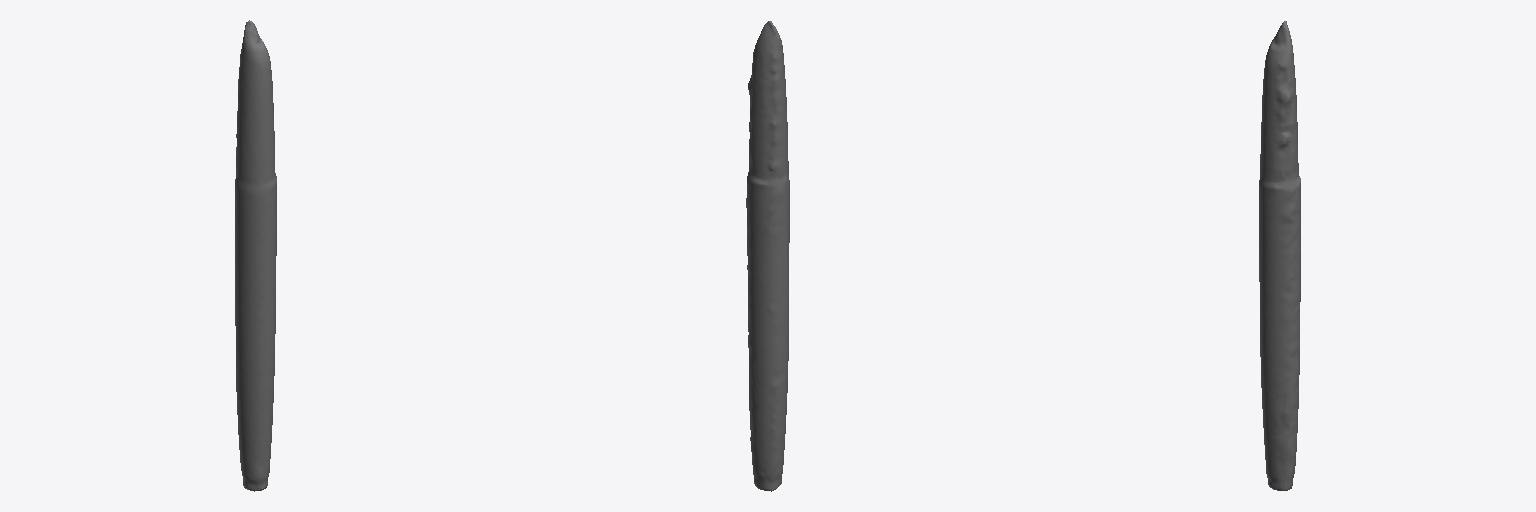
URDF robot description (object):
<?xml version="1.0"?>
<robot name="object">
  <link name="object">
    <visual>
      <origin xyz="0 0 0"/>
      <geometry>
        <mesh
          filename="../../mesh/oakink_virtual/marker_pen35.stl" />
      </geometry>
      <material name="mat">
        <color rgba="0.5 0.5 0.5 1"/>
      </material>
    </visual>

    <collision>
      <origin xyz="0 0 0"/>
      <geometry>
        <mesh
          filename="../../mesh/oakink_virtual/marker_pen35.stl" />
      </geometry>
    </collision>
  </link>
</robot>

--- Facts derived from the render (not from the file) ---
3 views of the same robot in one strip: view 1: azimuth 30°, elevation 25°; view 2: azimuth 150°, elevation 25°; view 3: azimuth 270°, elevation 25° (orthographic).
Robot: object — 1 links, 0 joints (none); root link object; default pose: every joint at zero.
Visible links, largest first — view 1: object; view 2: object; view 3: object.
Link boxes in pixels (bbox=[...]): object: bbox=[235, 20, 276, 491]; object: bbox=[746, 21, 789, 491]; object: bbox=[1259, 21, 1300, 490].
Bounding box of the posed robot: 0.0098 × 0.0099 × 0.12 m (x, y, z).
Meshes: 1 distinct files referenced, 1 mesh visuals loaded (1 binary STL).